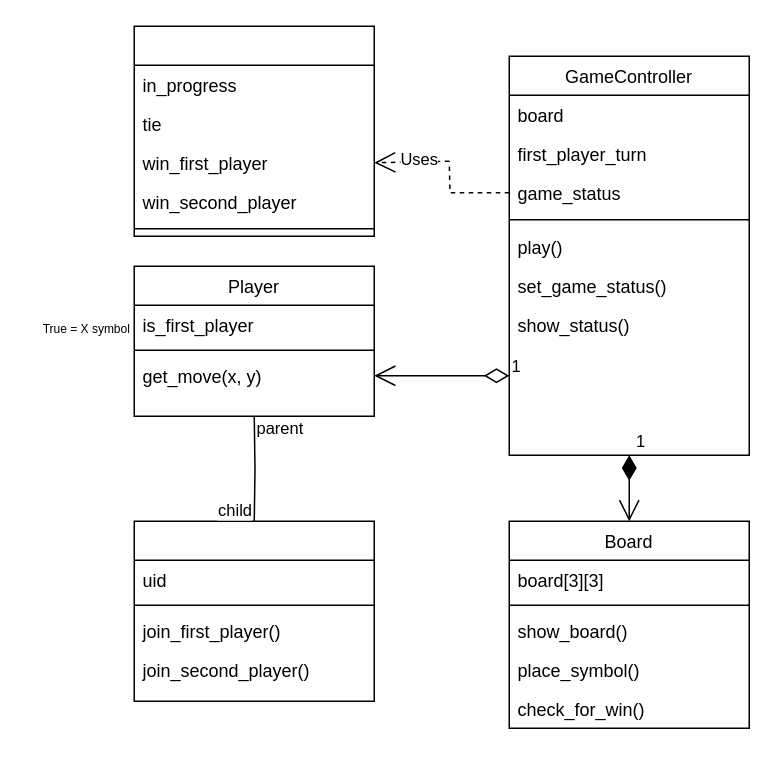
Image size: 776x759. Some labels were removed from this diagram. Here are the shapes that lost their labels. From the top down, the box of each, then its label:
(133, 25, 374, 236): game_status enum
(133, 520, 374, 701): OnlinePlayer
